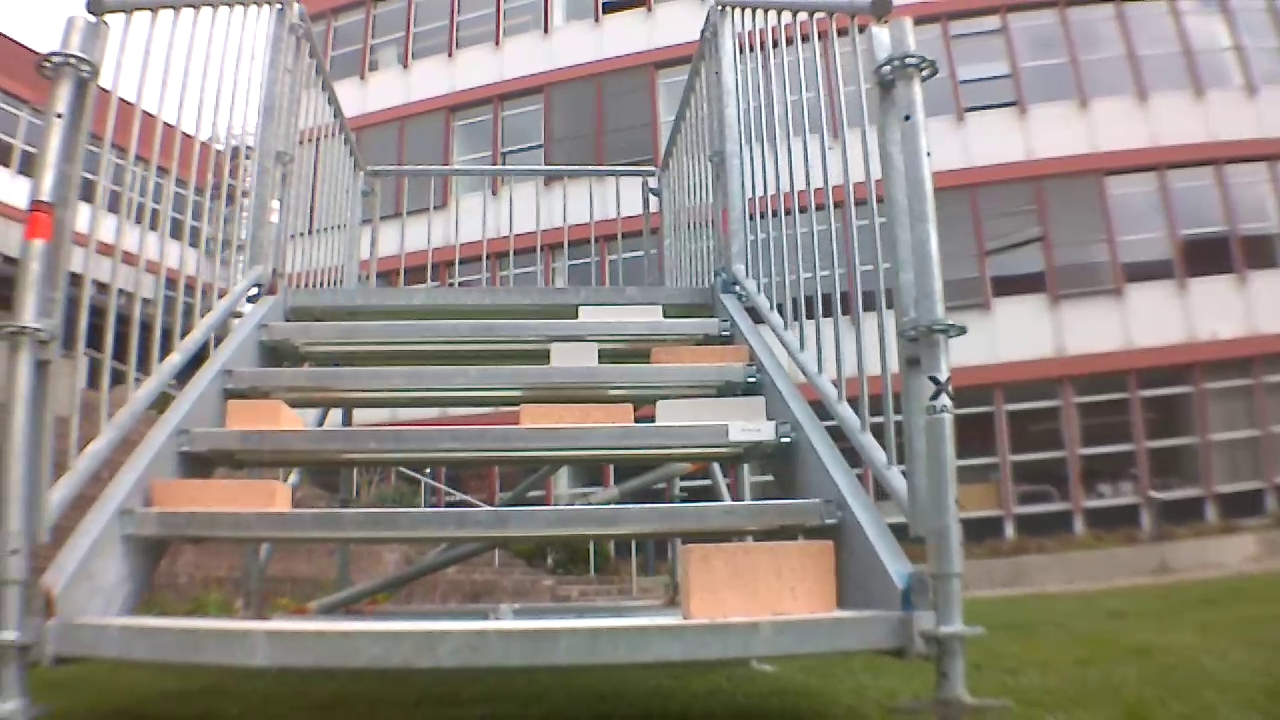brick: (672, 540, 841, 618), (147, 476, 290, 509), (652, 395, 766, 426), (516, 399, 631, 423), (225, 400, 308, 430), (647, 343, 746, 365), (578, 302, 667, 326), (544, 343, 603, 364)
edge: (46, 609, 910, 673), (176, 421, 802, 463), (109, 503, 849, 534), (215, 362, 764, 390), (240, 314, 747, 343), (288, 282, 717, 299)
stairs: (0, 0, 979, 715)
steps: (0, 284, 937, 678)
